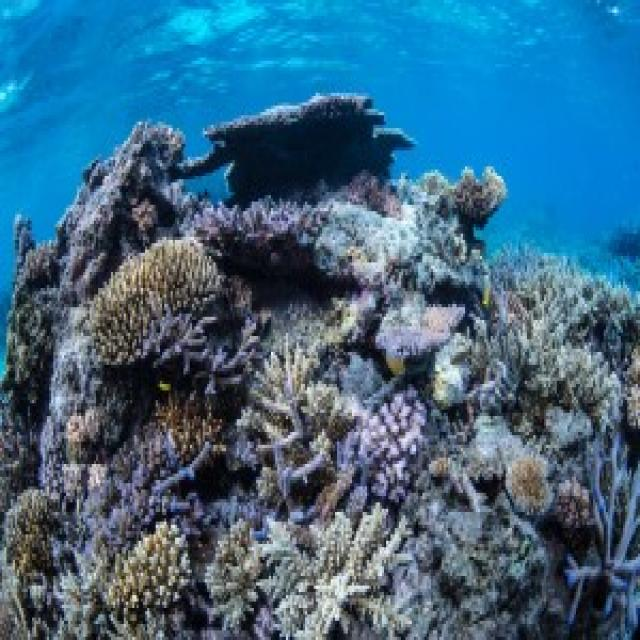Healthy: (423, 417, 590, 622), (1, 487, 195, 638), (280, 507, 494, 638), (63, 385, 225, 548), (219, 187, 481, 286), (263, 507, 404, 638), (502, 257, 635, 391), (91, 238, 227, 366), (244, 340, 340, 500), (142, 276, 268, 395), (566, 433, 639, 638), (338, 391, 426, 503), (50, 305, 103, 462), (376, 302, 464, 372), (421, 167, 507, 238), (274, 295, 379, 353), (208, 523, 263, 628), (434, 334, 470, 401), (573, 353, 613, 411)
